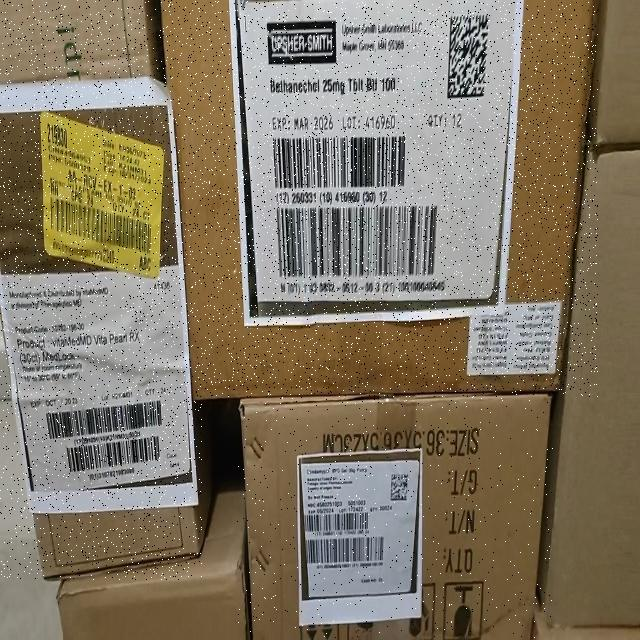BoxFace: (159, 1, 598, 397), (0, 0, 202, 580), (237, 390, 553, 638)
